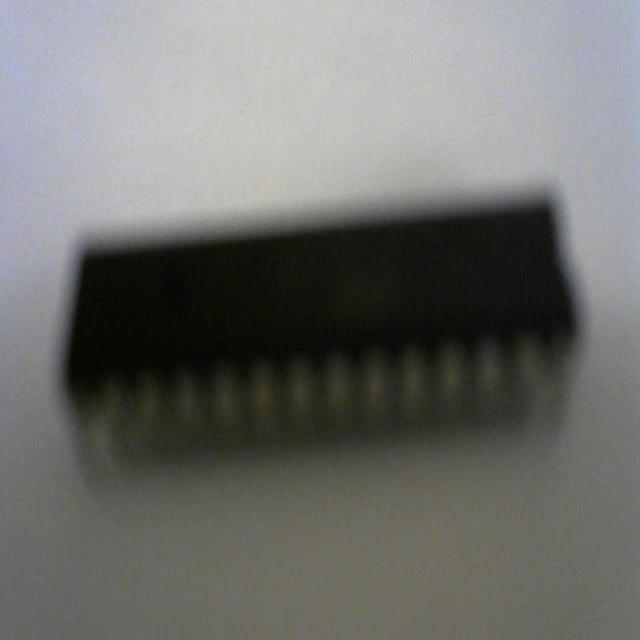atmega: (58, 184, 582, 479)
